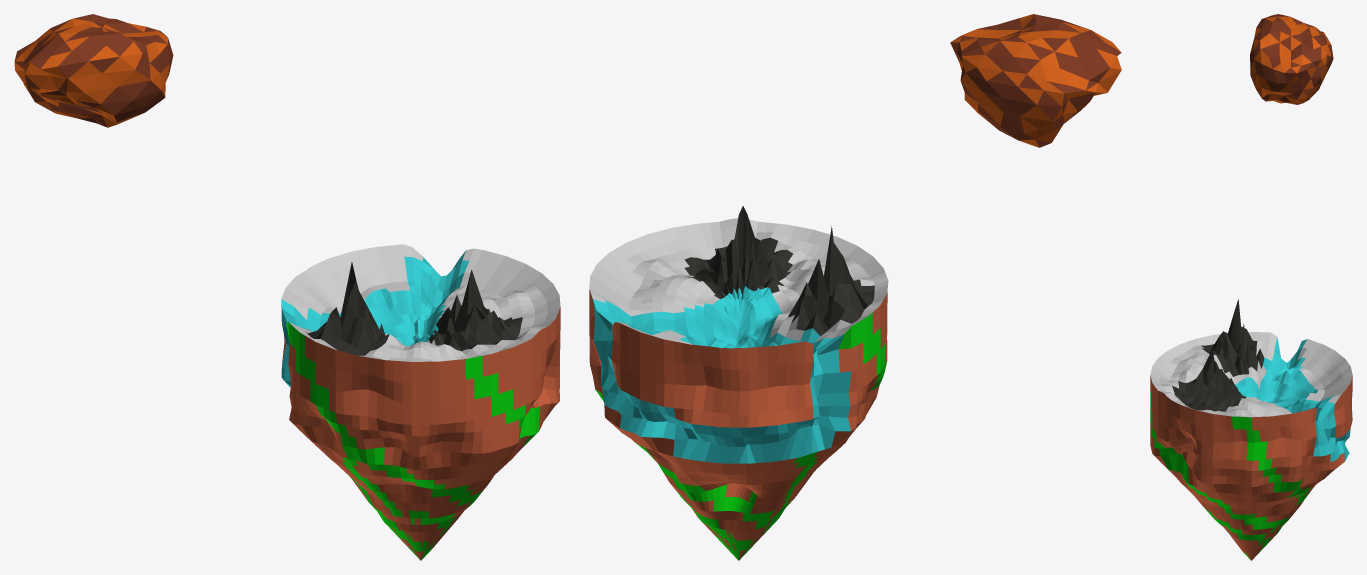
Rendered from Planet.fbx.
3 renders of one model, left to right at view 1: azimuth 30°, elevation 25°; view 2: azimuth 150°, elevation 25°; view 3: azimuth 270°, elevation 25°, orthographic. The views are drawn at different scales.
Parts seen in each view (by area): view 1: Circle, Icosphere; view 2: Circle, Icosphere; view 3: Circle, Icosphere.
Boxes of the visible parts, x1,y1,x2,y2 form: Circle: (281, 244, 560, 560); Icosphere: (14, 14, 173, 127); Circle: (589, 206, 888, 560); Icosphere: (950, 14, 1121, 147); Circle: (1150, 299, 1352, 560); Icosphere: (1250, 14, 1333, 104).
Size of the model in its own units: 547 by 620 by 266.
